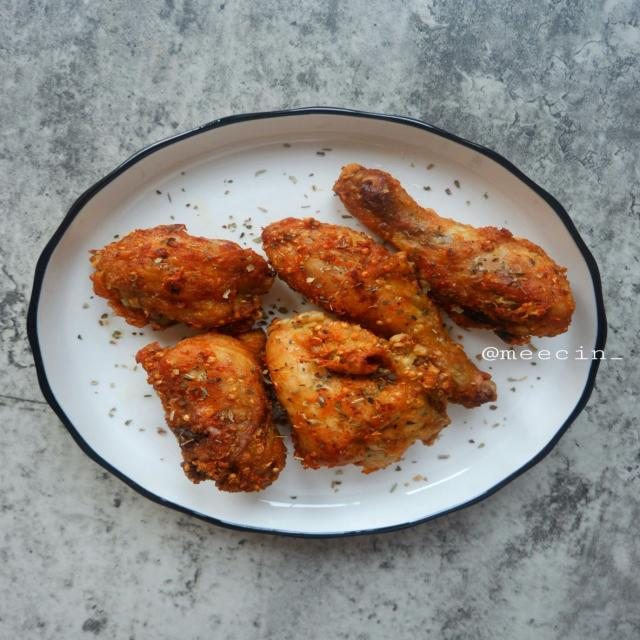ayam goreng: (260, 213, 502, 410), (330, 164, 576, 340), (263, 310, 453, 470), (138, 330, 276, 492), (83, 222, 276, 332)
piring: (30, 104, 614, 551)
